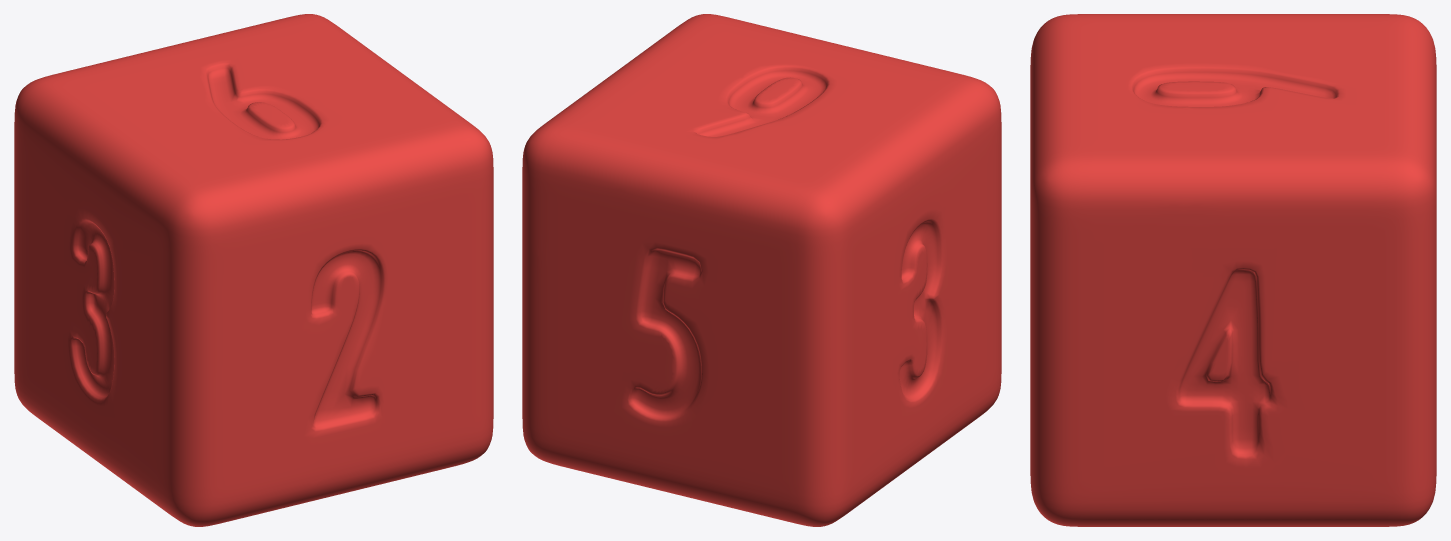
Rendered from Dice_D6.fbx.
3 renders of one model, left to right at view 1: azimuth 30°, elevation 25°; view 2: azimuth 150°, elevation 25°; view 3: azimuth 270°, elevation 25°, orthographic. The views are drawn at different scales.
Parts seen in each view (by area): view 1: Cube.002; view 2: Cube.002; view 3: Cube.002.
Boxes of the visible parts, bbox=[...] form: Cube.002: bbox=[14, 14, 493, 526]; Cube.002: bbox=[522, 14, 1001, 526]; Cube.002: bbox=[1030, 14, 1436, 526].
Size of the model in its own units: 200 by 200 by 200.
